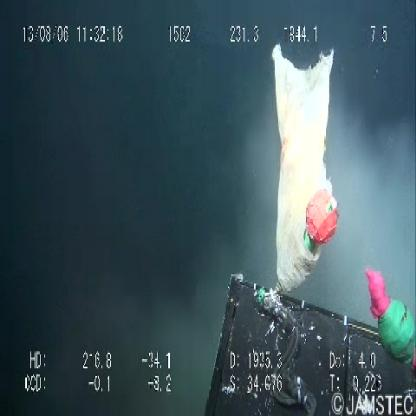Rov: (186, 257, 416, 416)
Rác: (268, 46, 347, 296)
